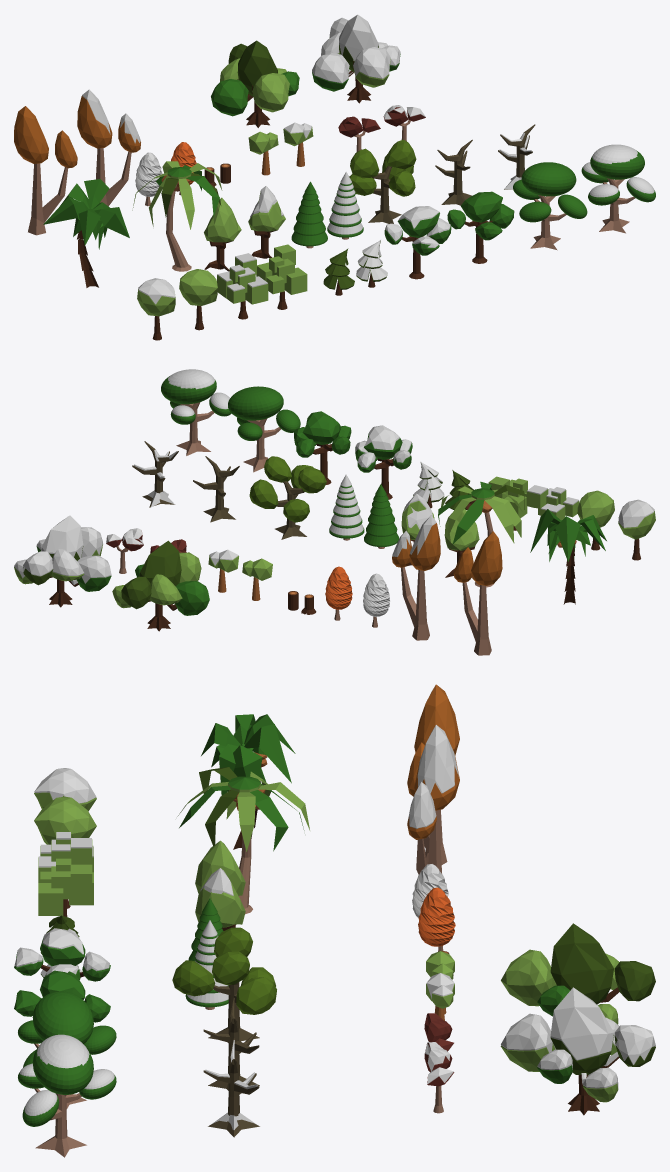
The model's file is trees.fbx.
3 views of the same model, one above another, from view 1: azimuth 30°, elevation 25°; view 2: azimuth 150°, elevation 25°; view 3: azimuth 270°, elevation 25° (orthographic). The views are drawn at different scales.
Visible parts, largest first — view 1: Cylinder.010, Cylinder.024, Cylinder.023, Cylinder.012, Cylinder.011, Cylinder.013, Circle, Cylinder.014, Cylinder.005, Cylinder.004, Cylinder.003, tree1.001 (+15 smaller); view 2: Cylinder.010, Cylinder.024, Cylinder.023, Cylinder.012, Cylinder.011, Cylinder.014, Cylinder.013, Cylinder.005, Circle, Cylinder.004, Cylinder.003, Cylinder.007 (+14 smaller); view 3: Cylinder.024, Cylinder.010, Cylinder.023, Cylinder.012, Cylinder.005, Cylinder.014, Circle, Cylinder.011, Cylinder.004, tree1, Cylinder.013, Cylinder (+12 smaller).
Part boxes in pixels (x1,y1,x2,y2): Cylinder.010: (349,124,535,223); Cylinder.024: (312,14,400,103); Cylinder.023: (211,40,299,127); Cylinder.012: (581,144,655,233); Cylinder.011: (513,162,587,250); Cylinder.013: (14,106,77,235); Circle: (43,179,129,287); Cylinder.014: (77,89,140,206); Cylinder.005: (132,161,222,271); Cylinder.004: (384,206,451,279); Cylinder.003: (447,191,514,263); tree1.001: (217,253,268,319); Cylinder.010: (132,441,326,539); Cylinder.024: (14,515,111,607); Cylinder.023: (112,540,209,631); Cylinder.012: (161,369,231,455); Cylinder.011: (228,386,300,472); Cylinder.014: (392,515,440,640); Cylinder.013: (453,531,502,655); Cylinder.005: (438,481,524,587); Circle: (530,509,606,604); Cylinder.004: (355,425,412,499); Cylinder.003: (294,411,351,484); Cylinder.007: (329,474,364,540); Cylinder.024: (500,987,655,1115); Cylinder.010: (172,927,276,1137); Cylinder.023: (501,923,655,1024); Cylinder.012: (18,1034,116,1157); Cylinder.005: (177,767,309,914); Cylinder.014: (407,725,459,874); Circle: (201,714,295,849); Cylinder.011: (18,991,116,1108); Cylinder.004: (14,928,110,981); tree1: (38,858,93,916); Cylinder.013: (407,684,459,864); Cylinder: (34,796,96,844).
Bounding box in the file's own units: 3793 × 928 × 2987.
